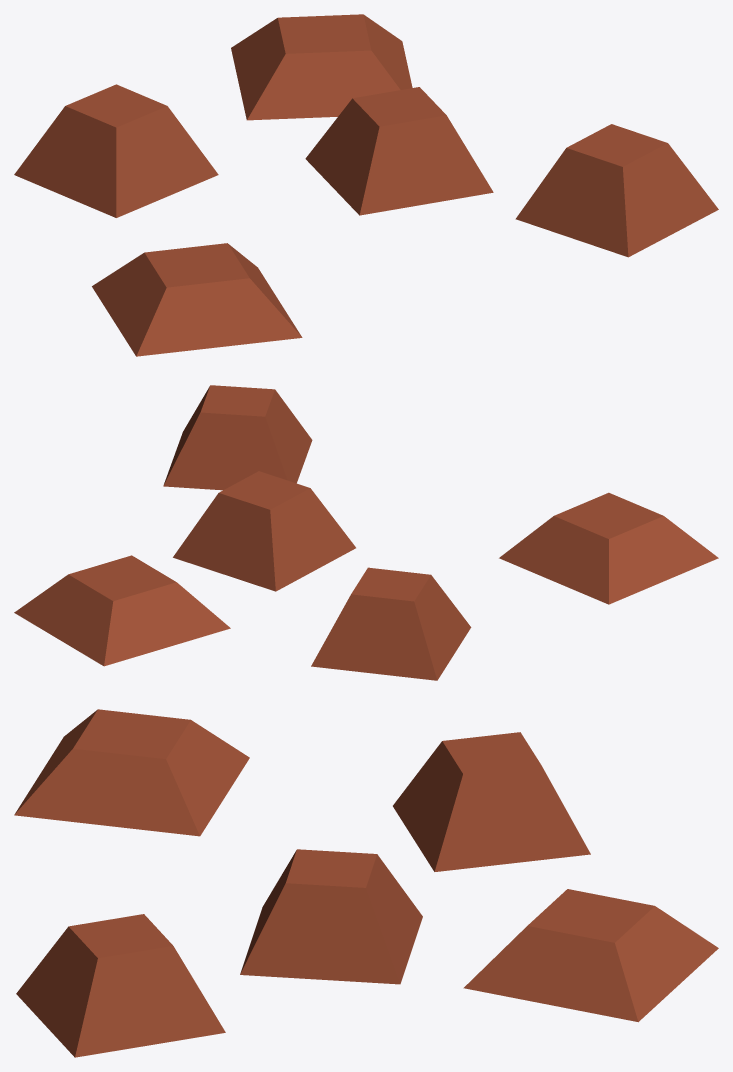
The model's file is Rocks Small A.glb.
3 views of the same model, one above another, from view 1: azimuth 30°, elevation 25°; view 2: azimuth 150°, elevation 25°; view 3: azimuth 270°, elevation 25° (orthographic). The views are drawn at different scales.
Parts seen in each view (by area): view 1: rocks_smallA; view 2: rocks_smallA; view 3: rocks_smallA.
Part boxes in pixels (x1=…): rocks_smallA: x1=14, y1=14, x2=718, y2=356; rocks_smallA: x1=14, y1=385, x2=718, y2=680; rocks_smallA: x1=14, y1=709, x2=718, y2=1057.
Bounding box in the file's own units: 0.9372 × 0.1051 × 0.8698.
